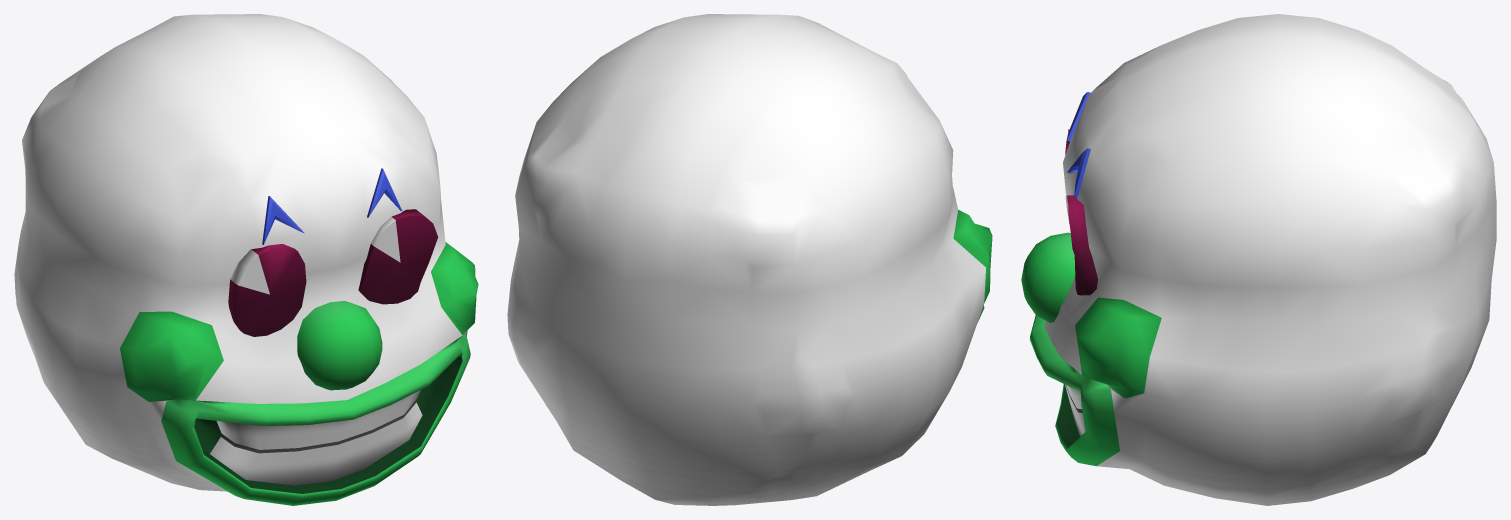
File: Clown_Head_Hatter.fbx
3 views of the same model, side by side, from view 1: azimuth 30°, elevation 25°; view 2: azimuth 150°, elevation 25°; view 3: azimuth 270°, elevation 25° (orthographic). The views are drawn at different scales.
Parts seen in each view (by area): view 1: ClownHead_hatter; view 2: ClownHead_hatter; view 3: ClownHead_hatter.
Part boxes in pixels (x1=…): ClownHead_hatter: x1=14, y1=14, x2=478, y2=505; ClownHead_hatter: x1=507, y1=14, x2=992, y2=505; ClownHead_hatter: x1=1021, y1=14, x2=1496, y2=505.
Bounding box in the file's own units: 52.1 × 57.26 × 55.77.
